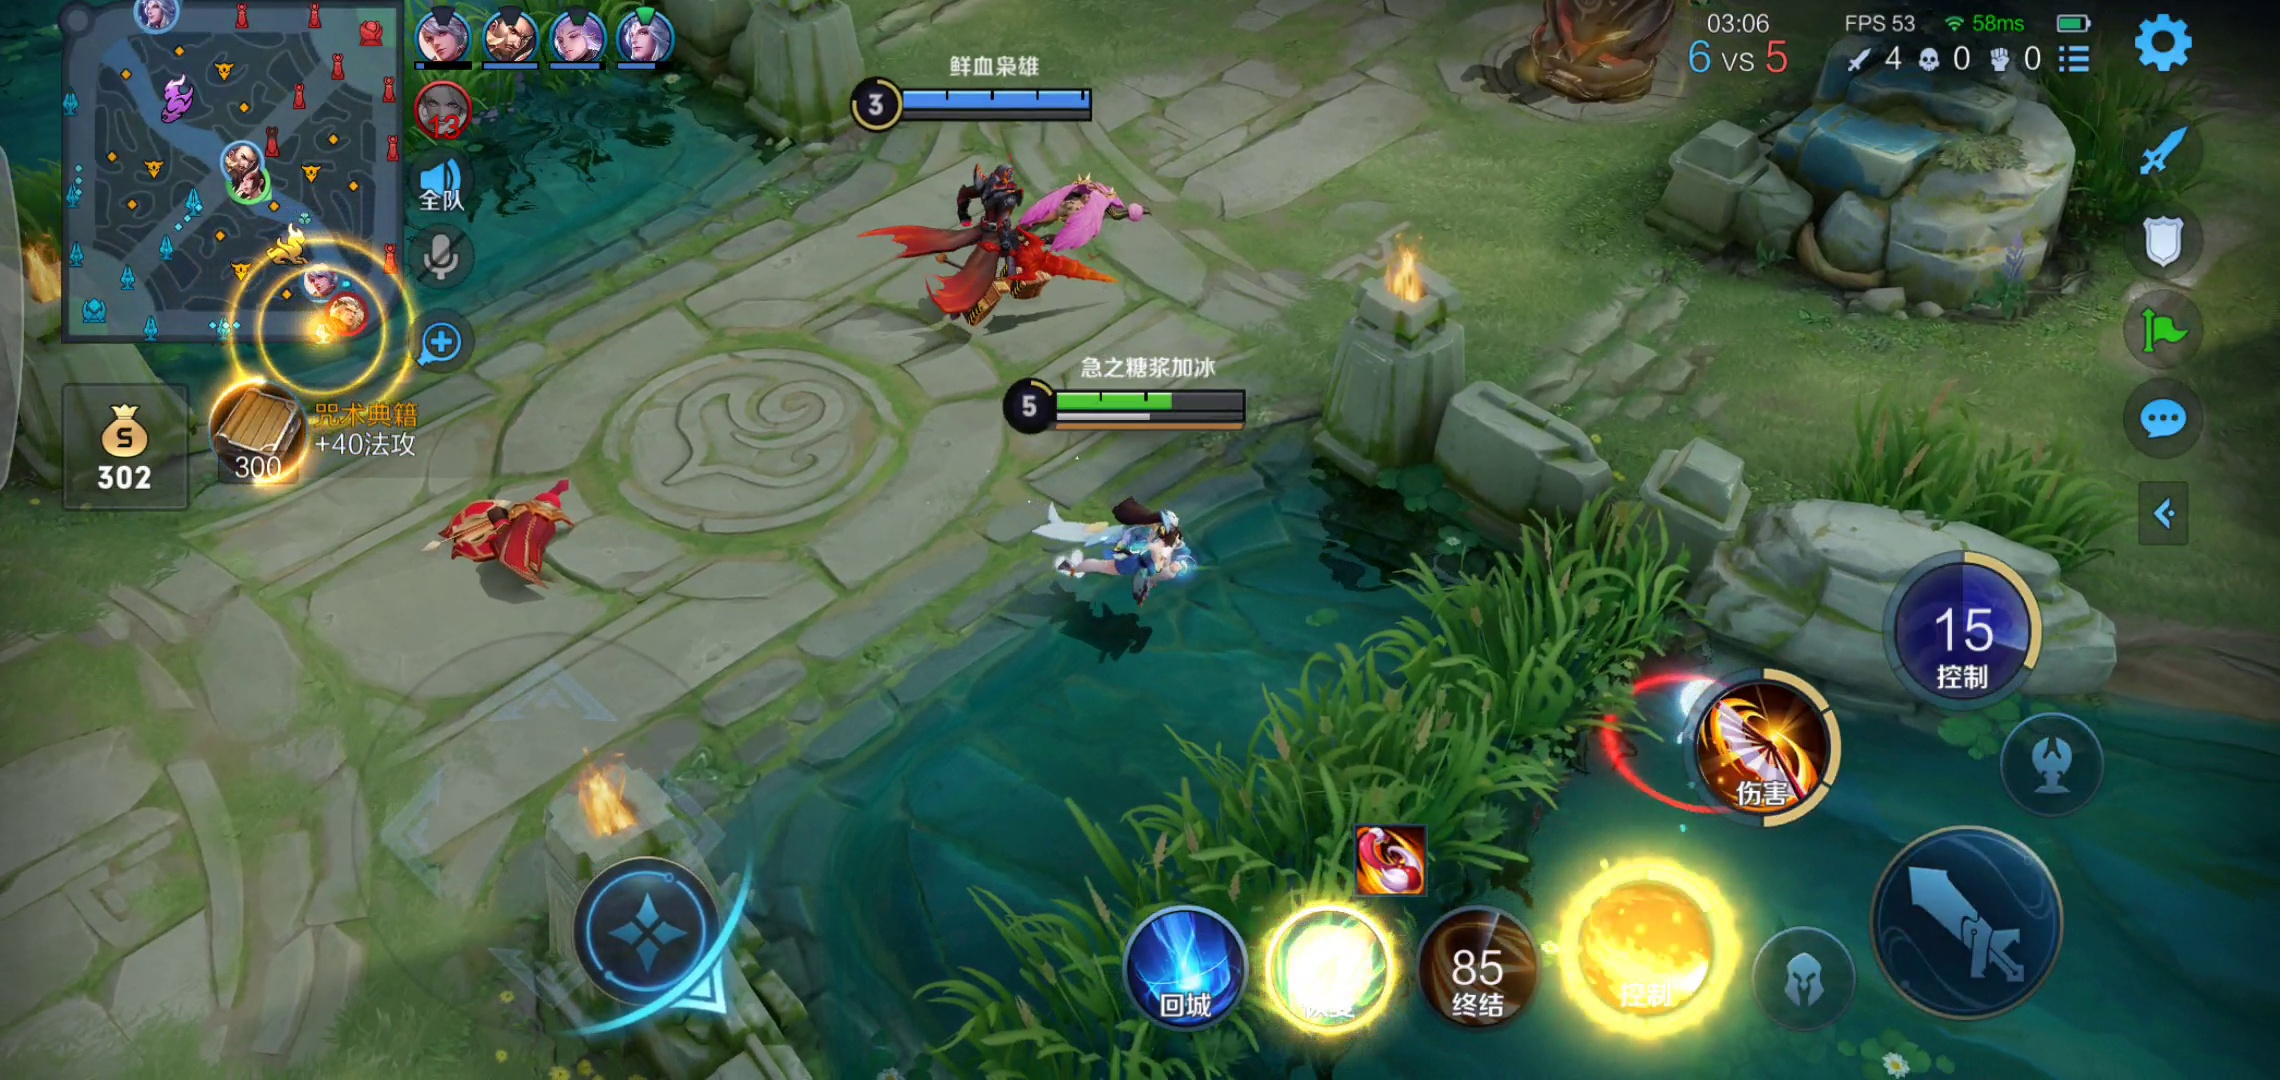grass: (903, 536, 1722, 1067), (1813, 401, 2116, 567), (2044, 55, 2207, 233)
hero: (887, 163, 1104, 331), (1019, 470, 1236, 621)
soldier: (430, 474, 585, 592)
tower: (1514, 1, 1701, 135)
